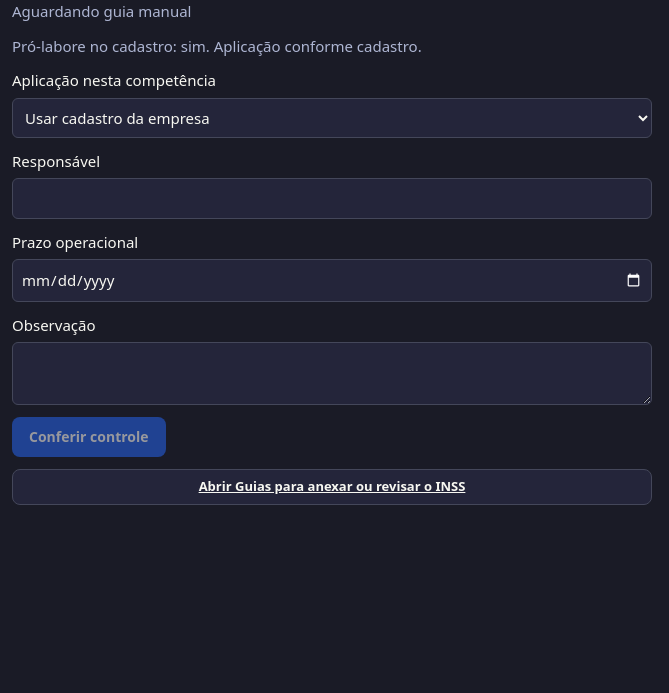
resultado incerto preserva pedido, bloqueia edição e repete mesma chave
Step 1. Type "Equipe fiscal" into the field labelled "Responsável" → [332, 198], box [12,178,652,218]
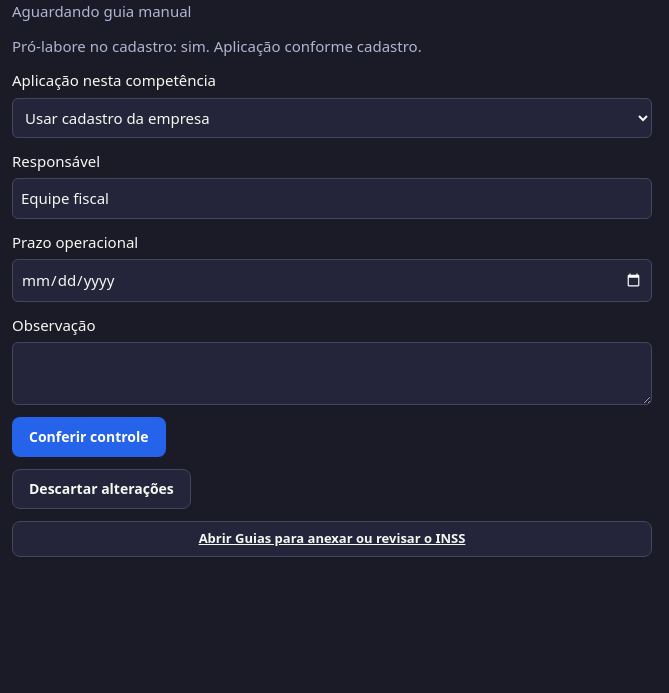
Step 2. Click the button "Conferir controle" → [89, 437], box [12,417,166,457]
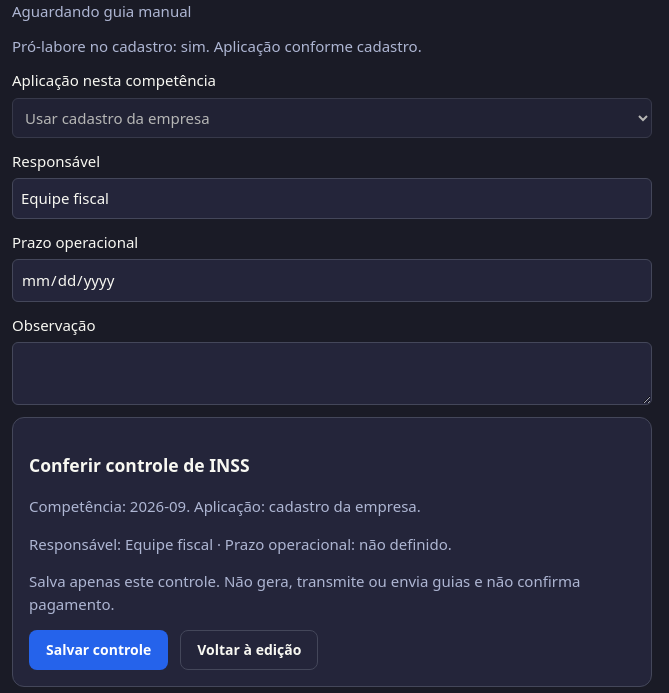
Step 3. Click the button "Salvar controle" → [99, 650], box [29,630,168,670]
(page scrolled)
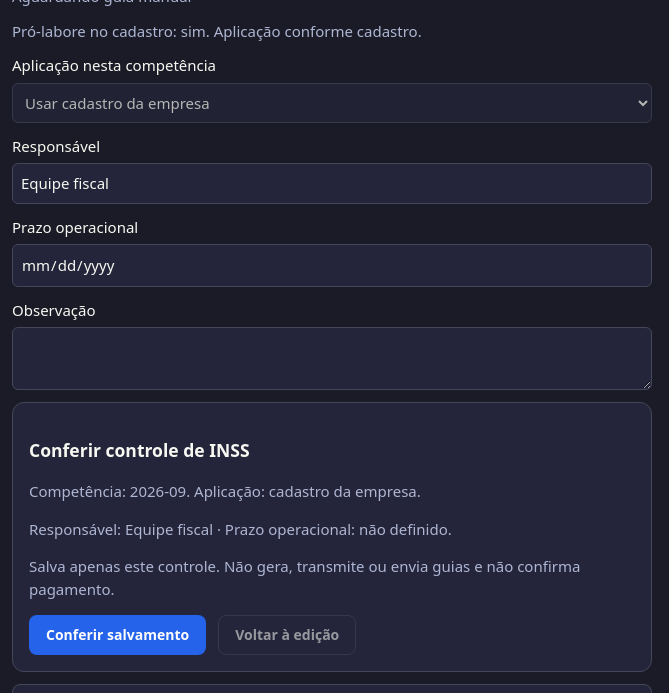
Check: the field labelled "Responsável" is disabled, box [12,163,652,204]
Step 4. Click the button "Conferir salvamento" → [118, 635], box [29,615,206,655]
(page scrolled)
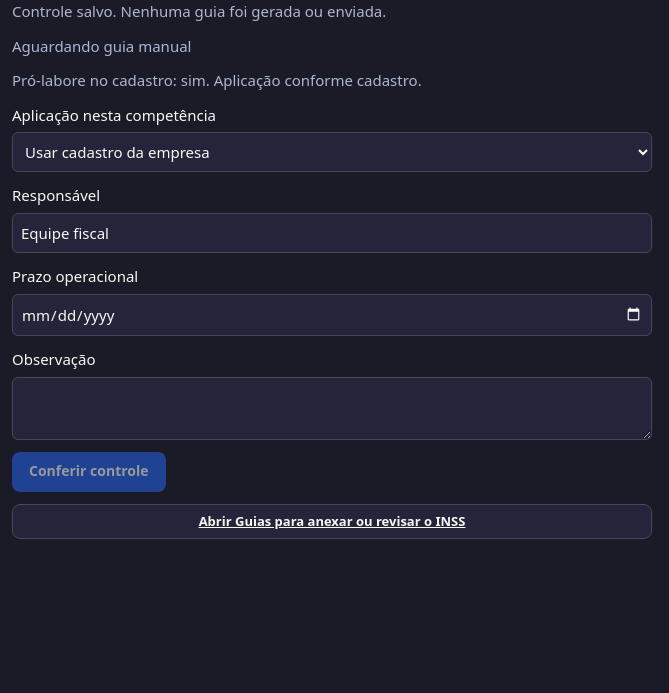
Check: the text "Controle salvo. Nenhuma guia foi gerada ou enviada." is shown, box [12,1,386,21]
